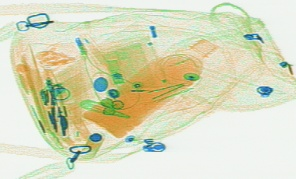drinkbottle: (82, 35, 215, 145)
